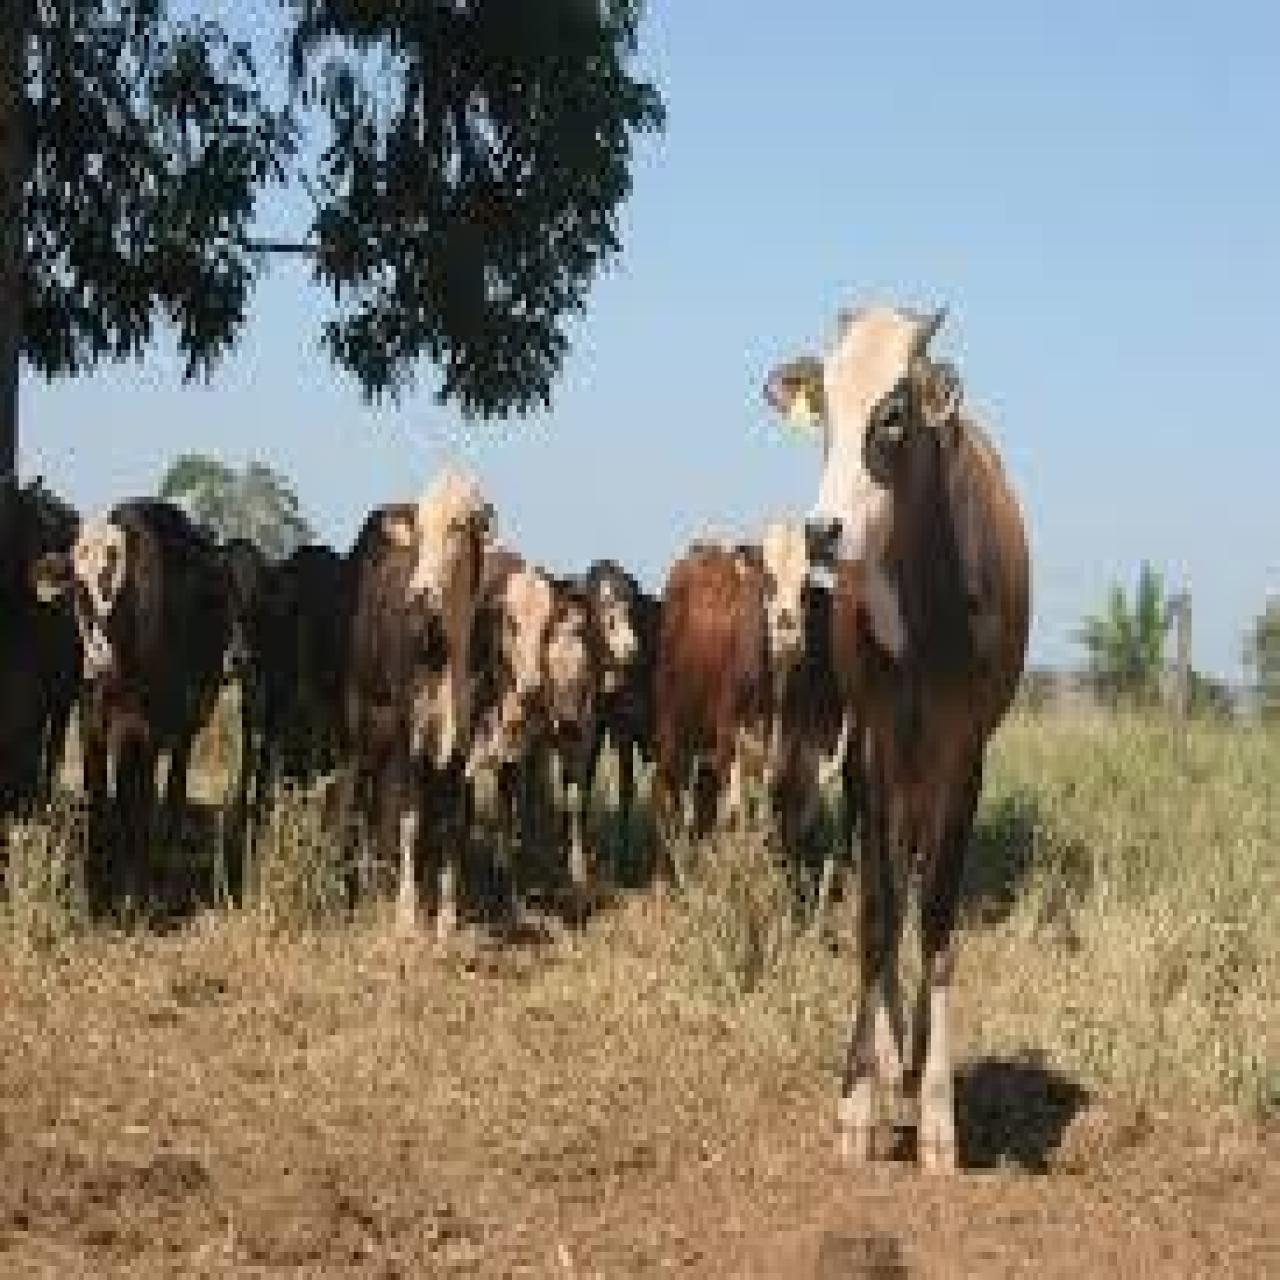cow: (761, 294, 1036, 1176), (33, 490, 238, 917), (338, 462, 496, 938), (652, 515, 815, 843), (547, 557, 645, 913), (479, 550, 567, 906)
